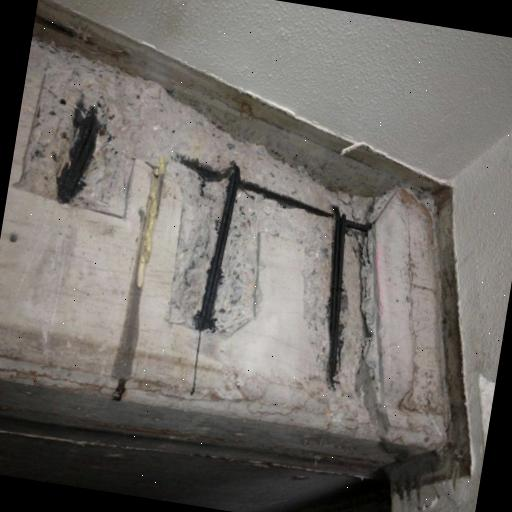spalling: (172, 173, 382, 403), (28, 56, 147, 212)
